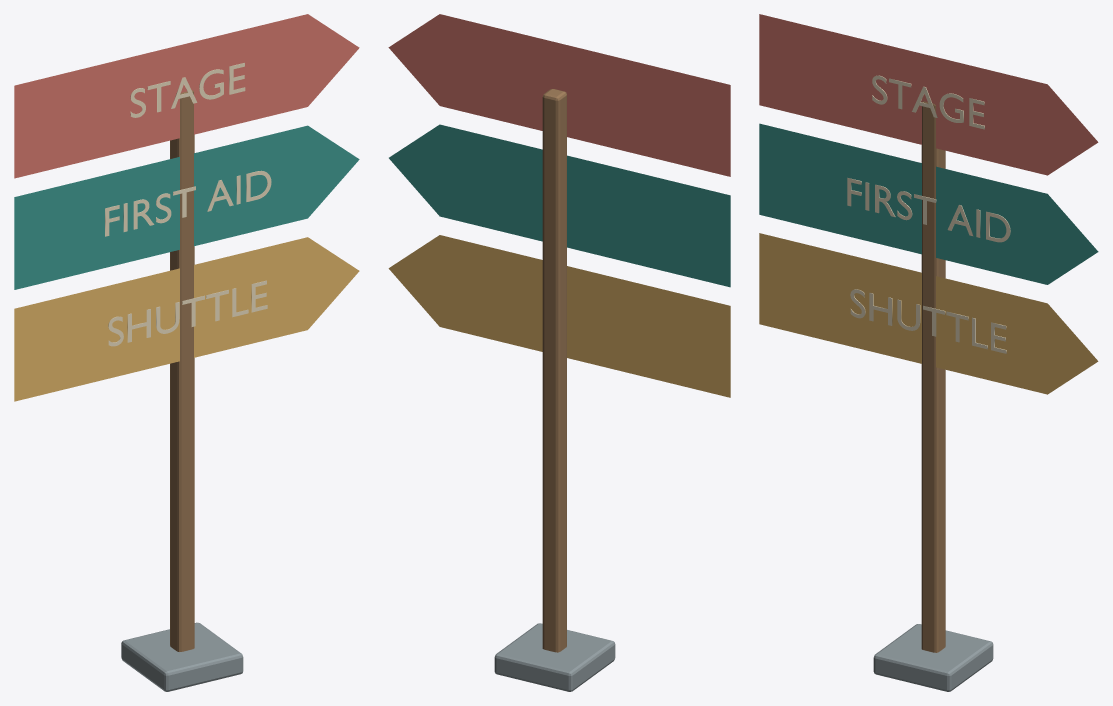
File: AH03_WayfindingPost.fbx
3 renders of one model, left to right at view 1: azimuth 30°, elevation 25°; view 2: azimuth 150°, elevation 25°; view 3: azimuth 330°, elevation 25°, orthographic.
Parts seen in each view (by area): view 1: AH03_WayfindingPost_AH03_Rose, AH03_WayfindingPost_AH03_Gold, AH03_WayfindingPost_AH03_Mint, AH03_WayfindingPost_AH03_Wood, AH03_WayfindingPost_AH03_Cream, AH03_WayfindingPost_AH03_Metal; view 2: AH03_WayfindingPost_AH03_Rose, AH03_WayfindingPost_AH03_Gold, AH03_WayfindingPost_AH03_Mint, AH03_WayfindingPost_AH03_Wood, AH03_WayfindingPost_AH03_Metal; view 3: AH03_WayfindingPost_AH03_Rose, AH03_WayfindingPost_AH03_Gold, AH03_WayfindingPost_AH03_Mint, AH03_WayfindingPost_AH03_Wood, AH03_WayfindingPost_AH03_Cream, AH03_WayfindingPost_AH03_Metal.
Boxes of the visible parts, <box> form: AH03_WayfindingPost_AH03_Rose: <box>14,14,359,178</box>; AH03_WayfindingPost_AH03_Gold: <box>14,237,359,401</box>; AH03_WayfindingPost_AH03_Mint: <box>14,125,359,289</box>; AH03_WayfindingPost_AH03_Wood: <box>170,90,194,651</box>; AH03_WayfindingPost_AH03_Cream: <box>105,63,271,346</box>; AH03_WayfindingPost_AH03_Metal: <box>121,622,243,691</box>; AH03_WayfindingPost_AH03_Rose: <box>388,14,730,176</box>; AH03_WayfindingPost_AH03_Gold: <box>388,235,730,397</box>; AH03_WayfindingPost_AH03_Mint: <box>389,124,730,287</box>; AH03_WayfindingPost_AH03_Wood: <box>542,89,566,652</box>; AH03_WayfindingPost_AH03_Metal: <box>494,623,615,691</box>; AH03_WayfindingPost_AH03_Rose: <box>759,14,1098,175</box>; AH03_WayfindingPost_AH03_Gold: <box>759,233,1098,394</box>; AH03_WayfindingPost_AH03_Mint: <box>759,123,1098,284</box>; AH03_WayfindingPost_AH03_Wood: <box>921,101,945,652</box>; AH03_WayfindingPost_AH03_Cream: <box>847,75,1010,353</box>; AH03_WayfindingPost_AH03_Metal: <box>873,624,993,691</box>.
Bounding box in the file's own units: 140 × 243 × 32.
